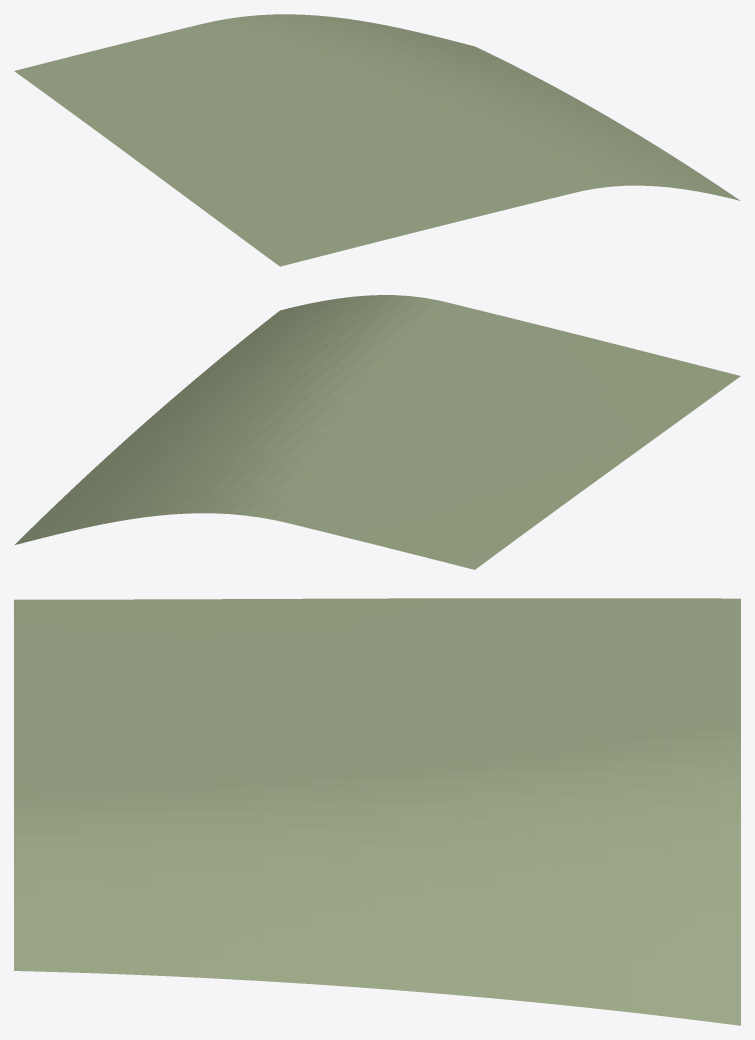
File: desert-21-17.glb
The picture shows the model from 3 angles, top to bottom: view 1: azimuth 30°, elevation 25°; view 2: azimuth 150°, elevation 25°; view 3: azimuth 270°, elevation 25°; orthographic projection. The views are drawn at different scales.
Parts seen in each view (by area): view 1: desert-21-17; view 2: desert-21-17; view 3: desert-21-17.
Boxes of the visible parts, x1,y1,x2,y2 form: desert-21-17: (14, 14, 740, 266); desert-21-17: (15, 295, 740, 569); desert-21-17: (14, 598, 740, 1025).
Bounding box in the file's own units: 512 × 94.71 × 512.
